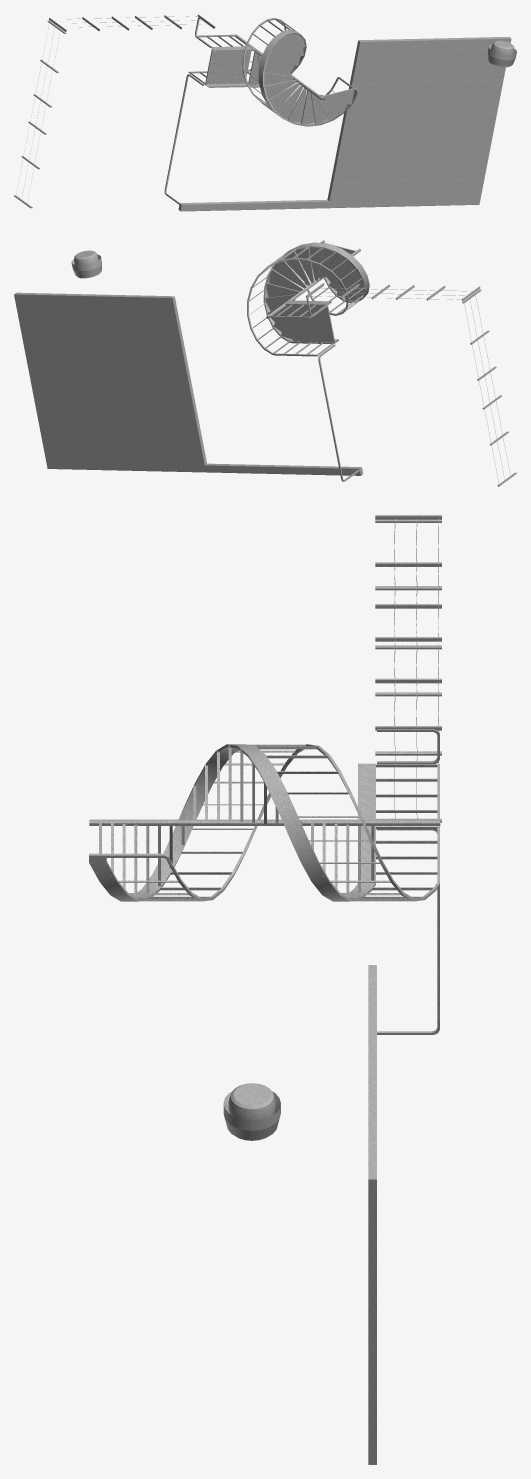
Rendered from _1WALL_Pitbox01_02_SUB1_Scene.300.obj.
3 views of the same model, one above another, from view 1: azimuth 30°, elevation 25°; view 2: azimuth 150°, elevation 25°; view 3: azimuth 270°, elevation 25° (orthographic). The views are drawn at different scales.
Parts seen in each view (by area): view 1: _1WALL_Pitbox01_02_SUB1_Scene.300; view 2: _1WALL_Pitbox01_02_SUB1_Scene.300; view 3: _1WALL_Pitbox01_02_SUB1_Scene.300.
Boxes of the visible parts, x1=… form: _1WALL_Pitbox01_02_SUB1_Scene.300: x1=14, y1=14, x2=516, y2=211; _1WALL_Pitbox01_02_SUB1_Scene.300: x1=14, y1=240, x2=516, y2=486; _1WALL_Pitbox01_02_SUB1_Scene.300: x1=89, y1=515, x2=441, y2=1464.
Bounding box in the file's own units: 19.44 × 10.62 × 6.2.
